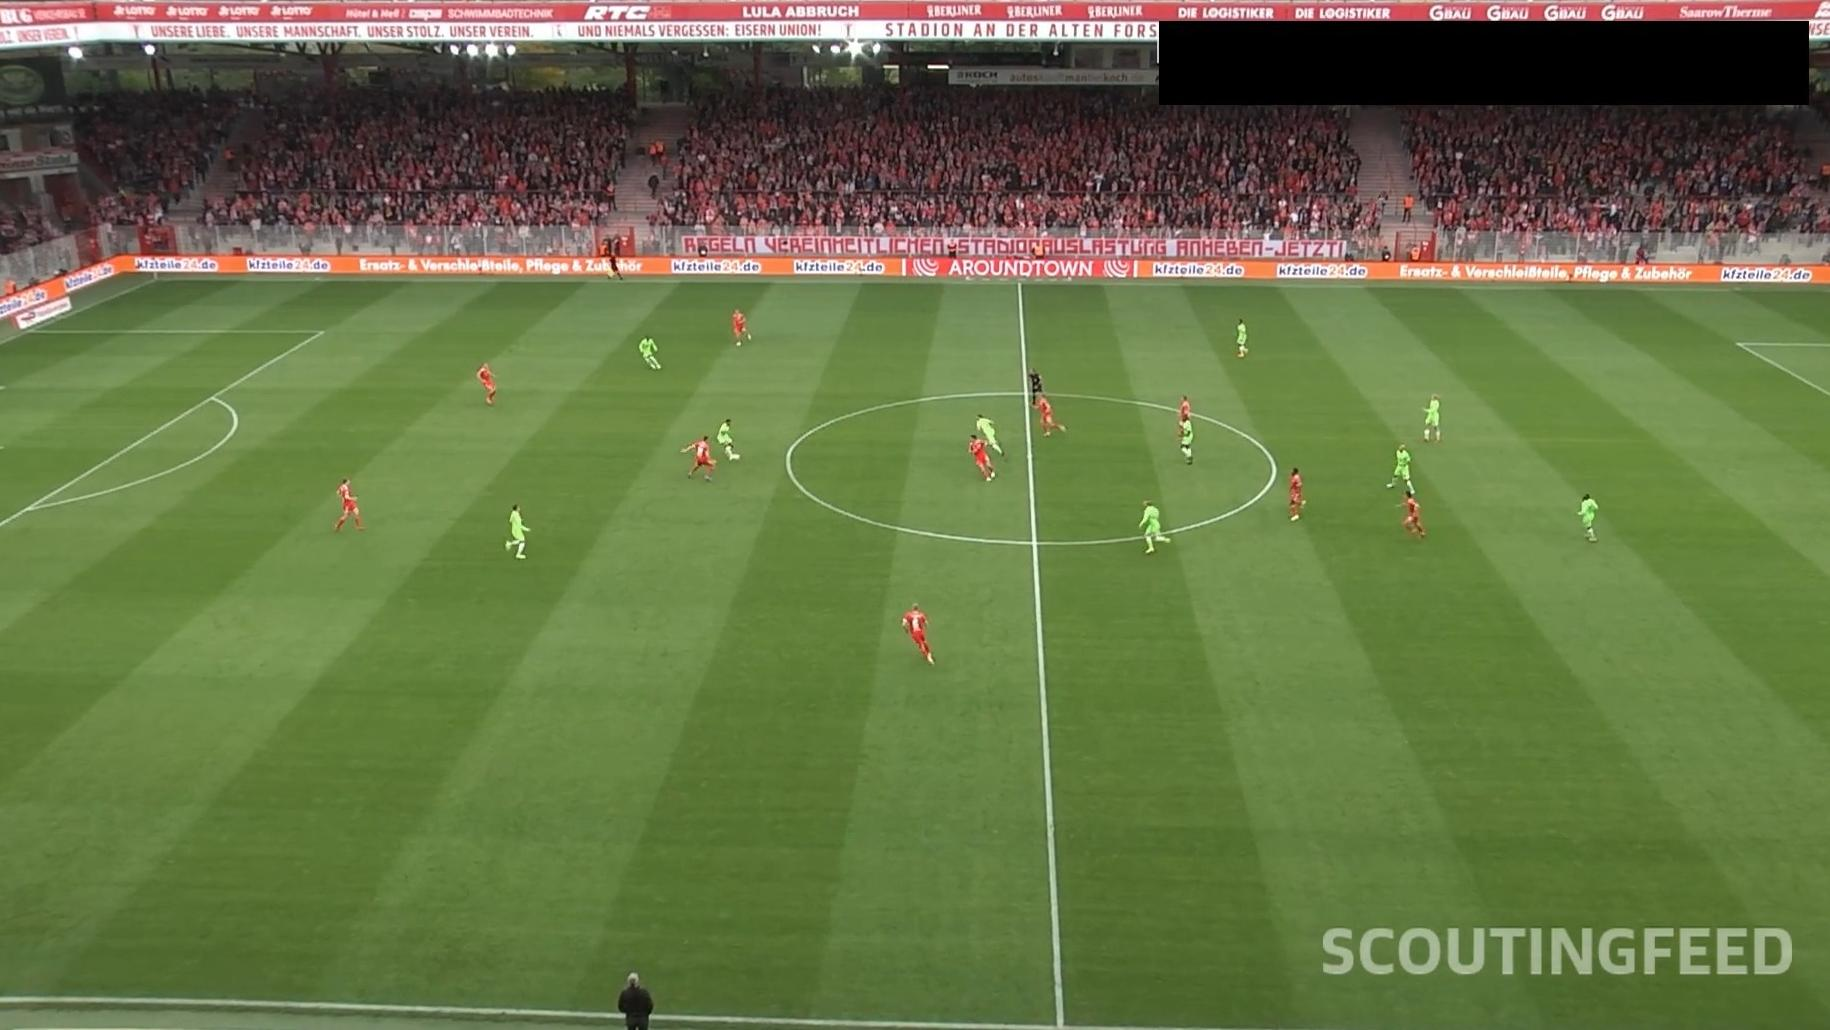ball: (730, 451, 742, 462)
